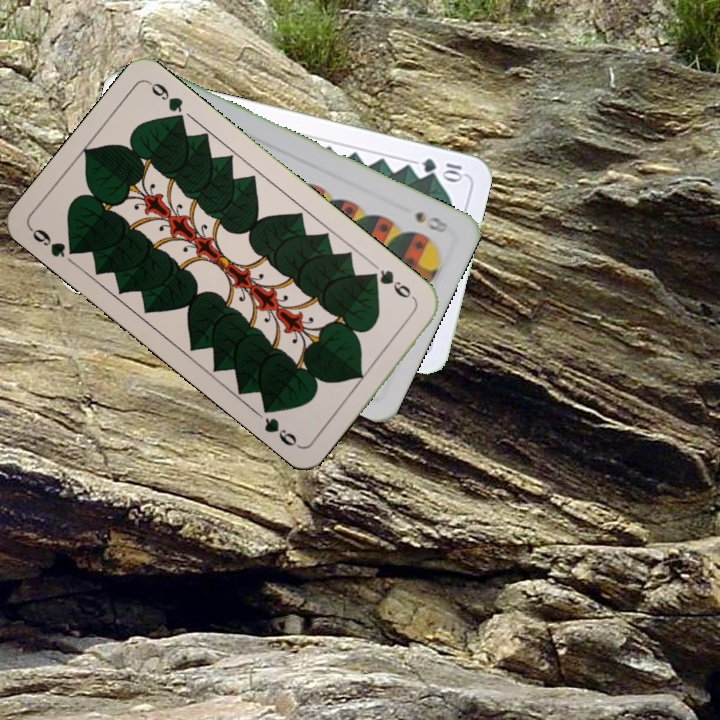G10: (418, 154, 467, 184)
G9: (365, 265, 419, 304), (26, 224, 83, 260)
S8: (411, 207, 451, 236)
